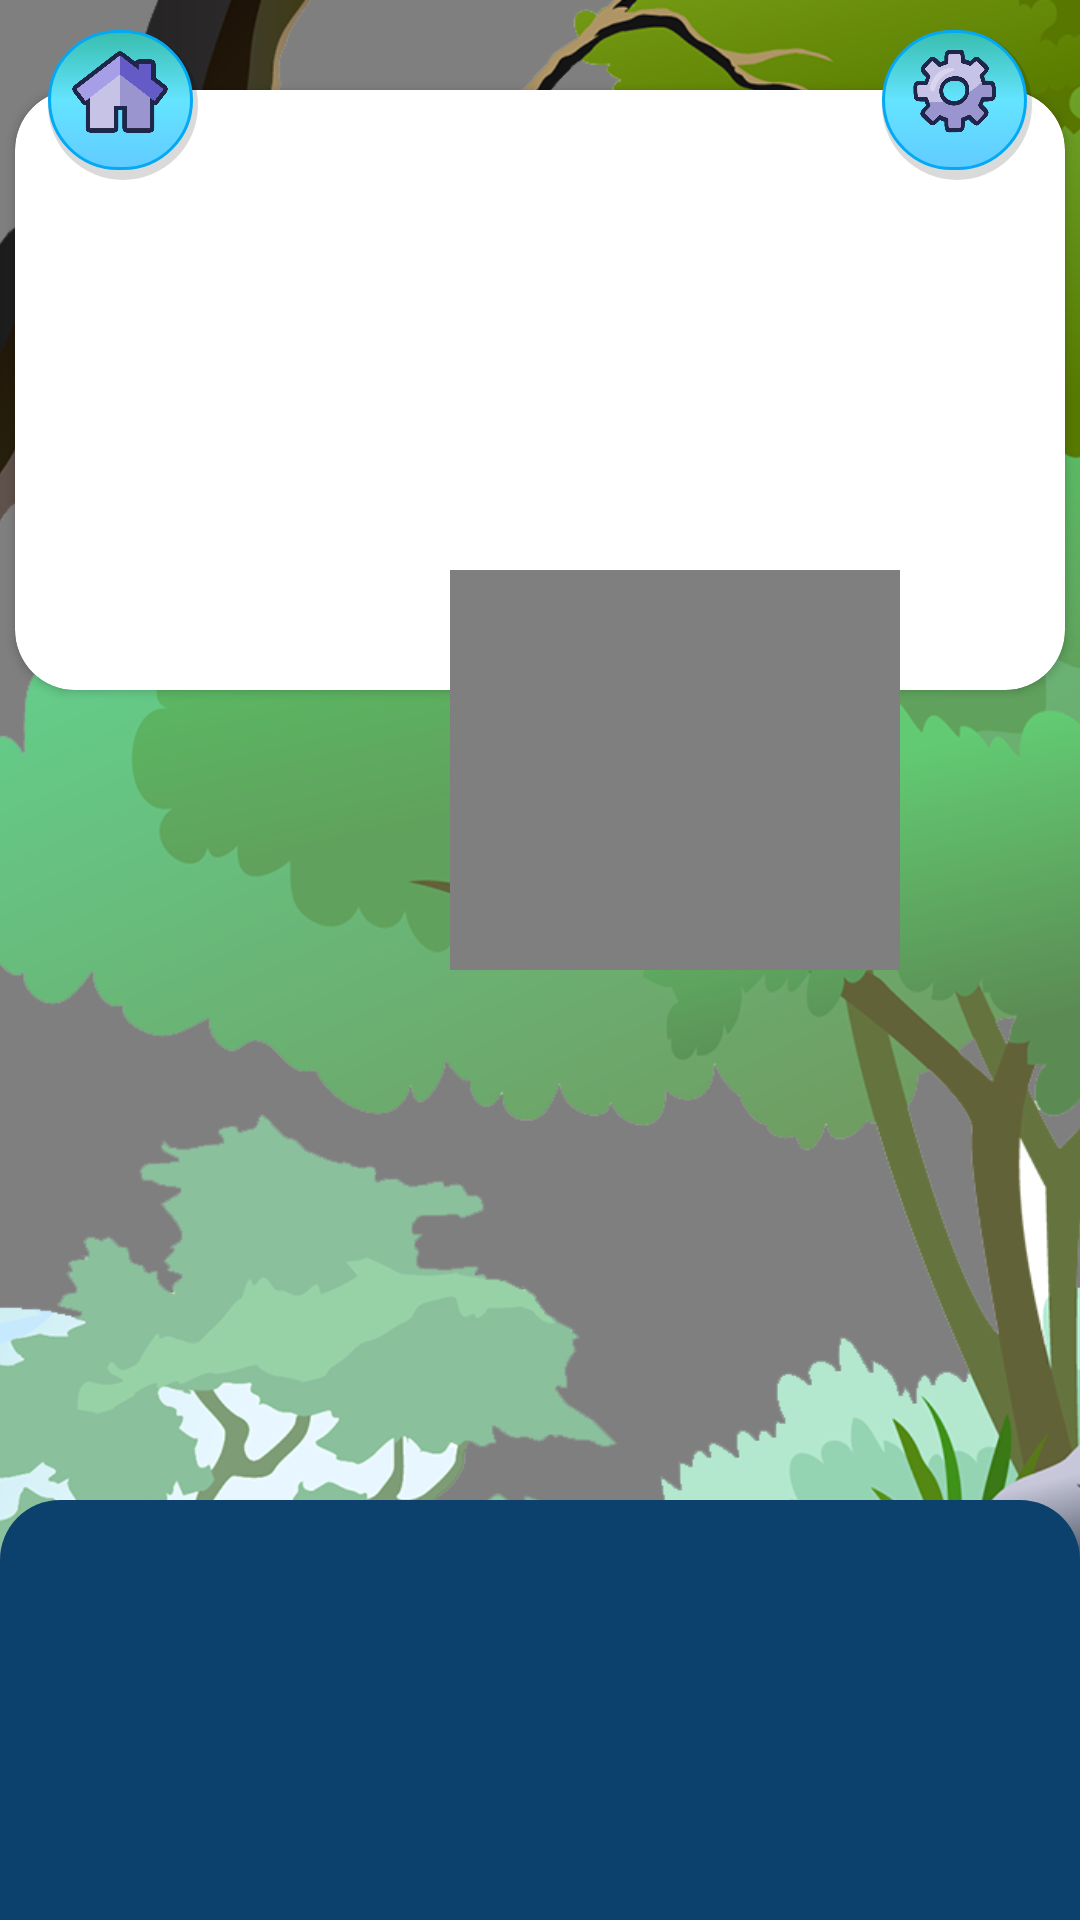

Screen size 1080px x 1920px. Icon name, then its center in pixels as (x=x, y=y):
home: (x=123, y=105)
setting: (x=957, y=105)
